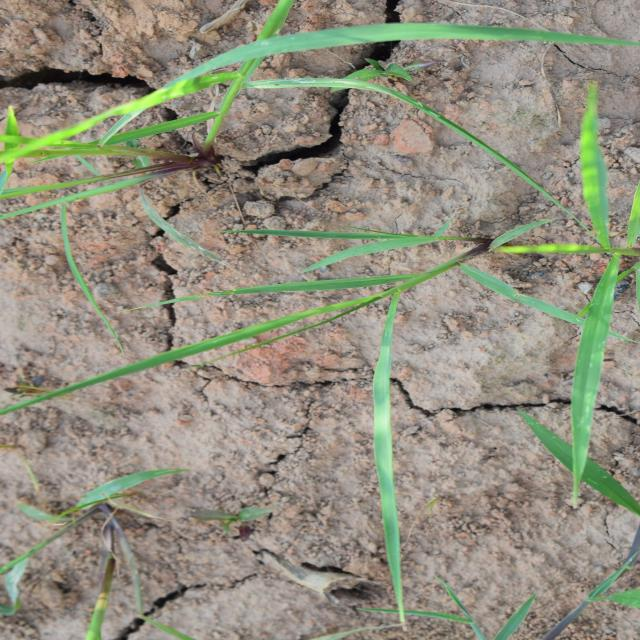green_foxtail: (179, 144, 439, 553), (380, 0, 624, 285)
